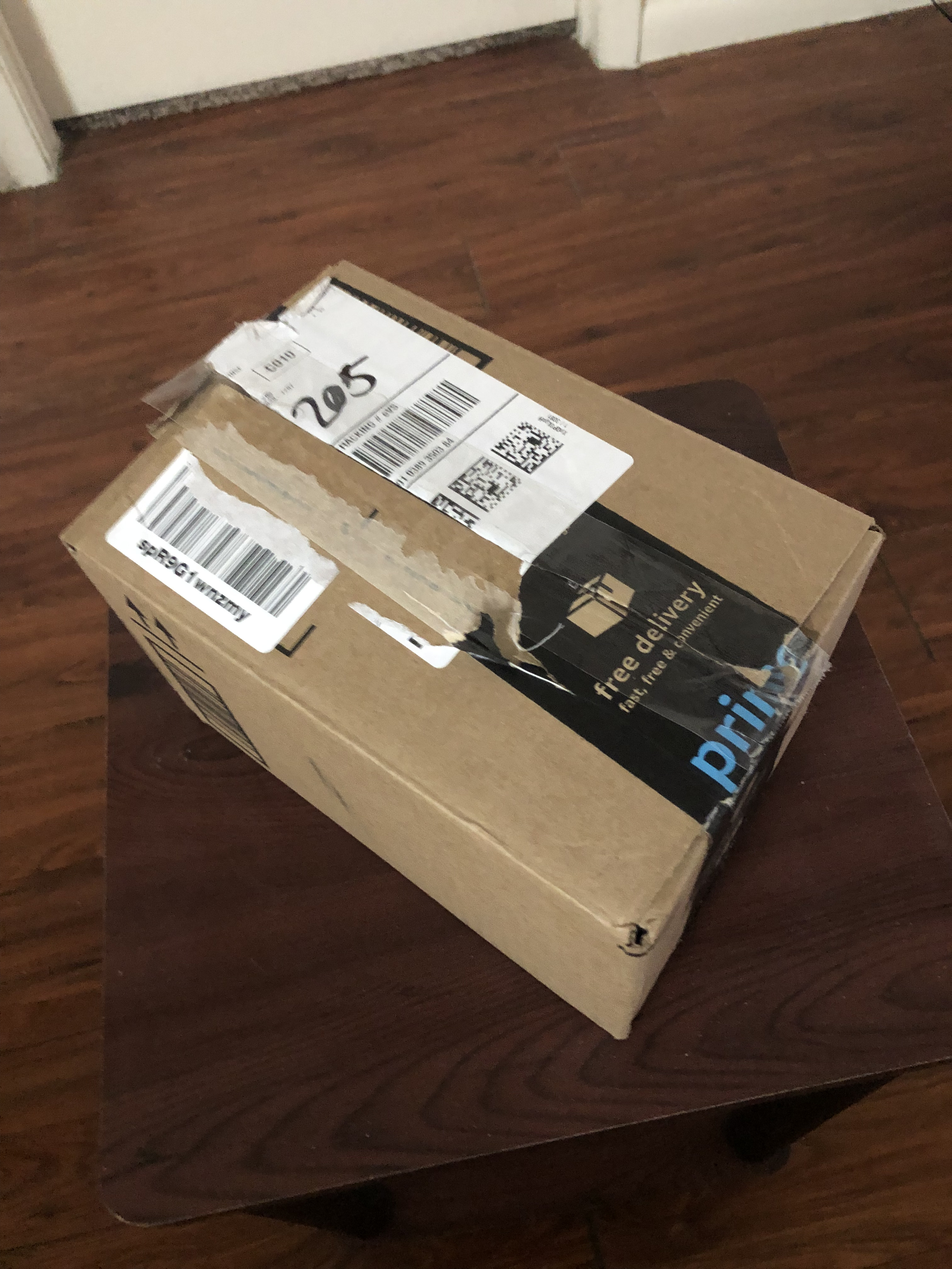package: (15, 218, 919, 1092)
